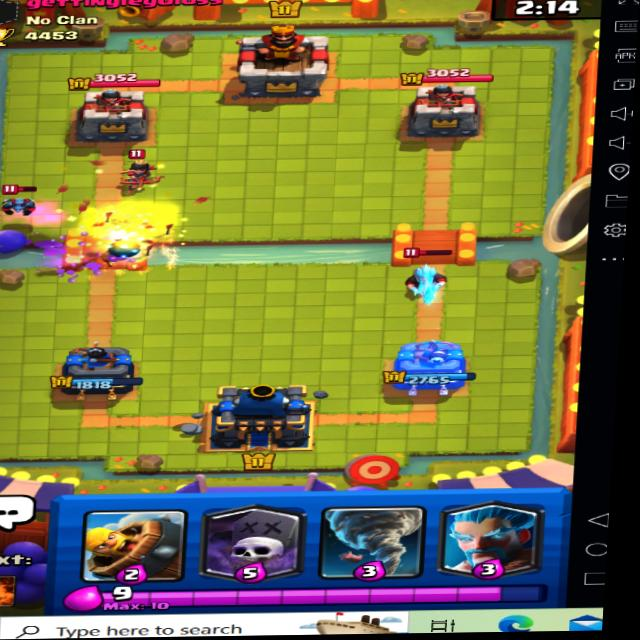ice-wizard: (388, 244, 453, 299)
minion: (0, 179, 41, 219)
princess: (115, 148, 163, 189)
